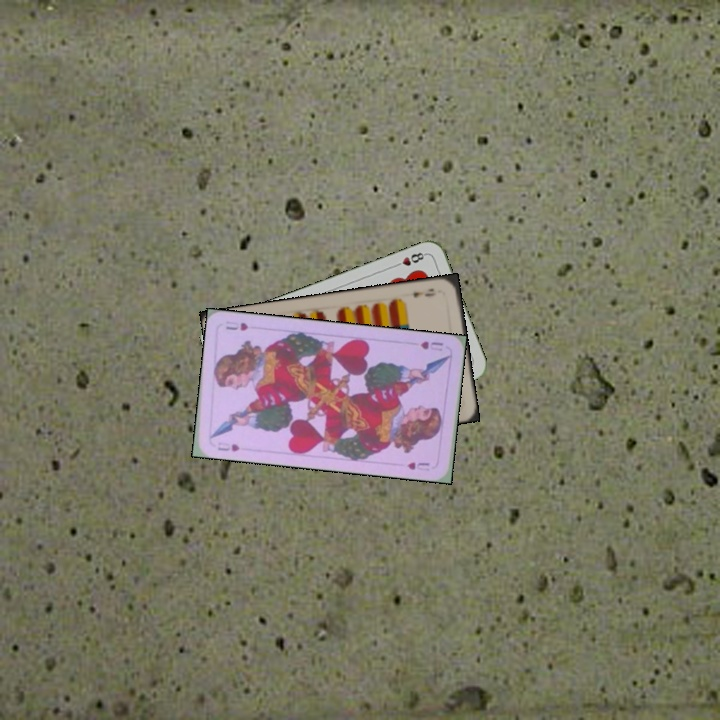E9: (409, 284, 438, 300)
H8: (390, 248, 429, 270)
HU: (417, 337, 446, 352), (214, 440, 242, 454)
